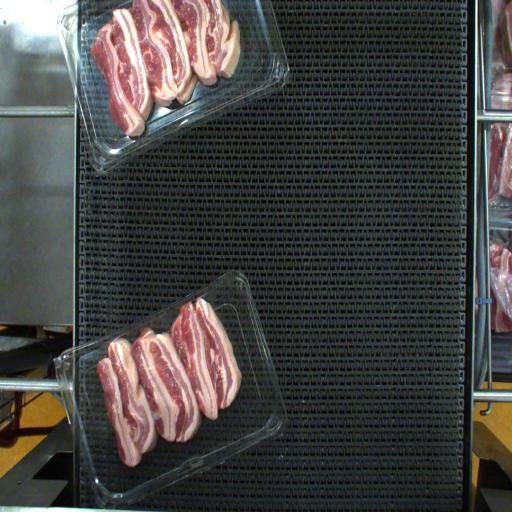packaging-error: (89, 324, 139, 356), (172, 293, 220, 318)
